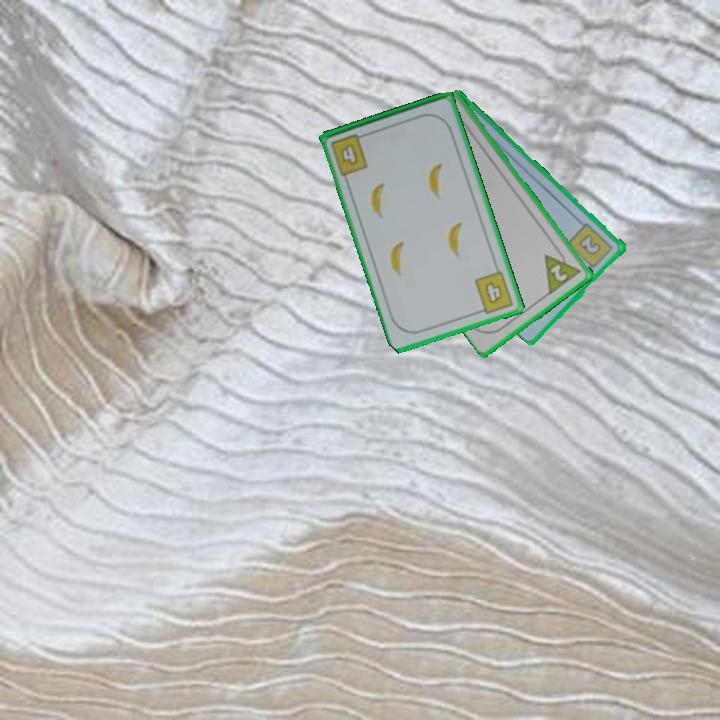2b: (564, 220, 617, 274)
2p: (541, 243, 585, 297)
4b: (471, 267, 517, 317), (327, 130, 371, 178)
